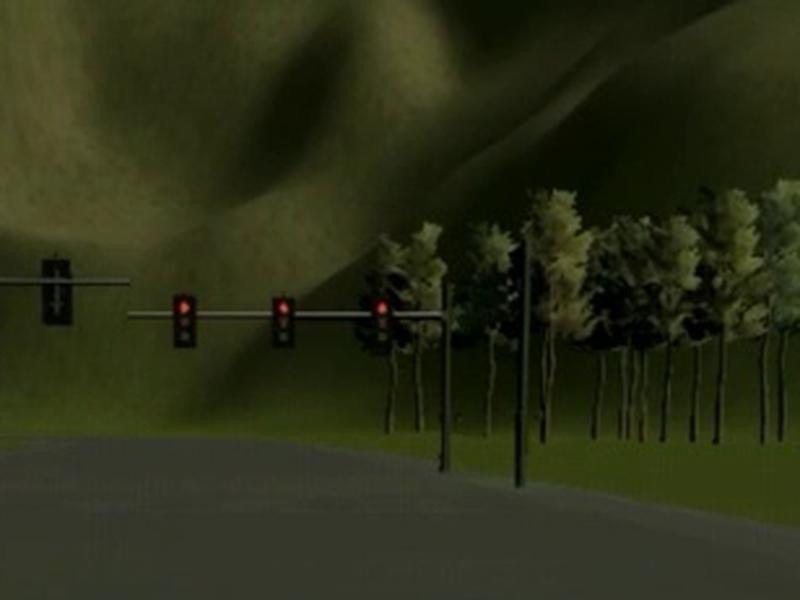Red: (171, 296, 197, 347), (271, 295, 296, 348), (370, 299, 393, 352)
